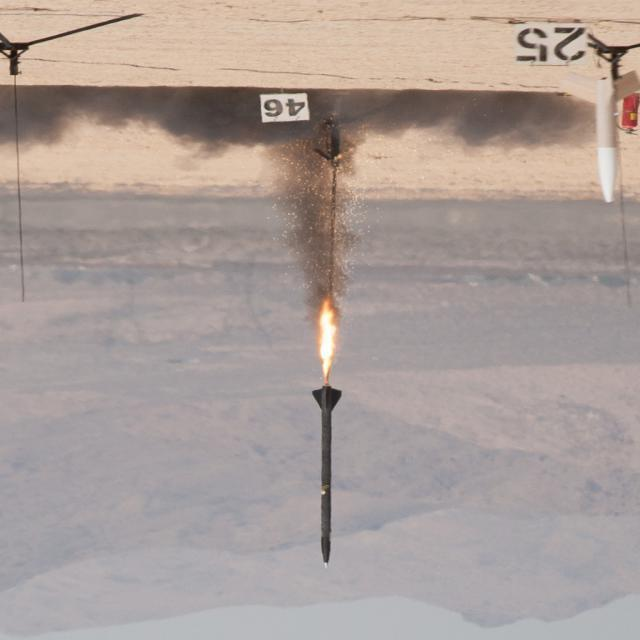missile: (308, 380, 346, 565)
